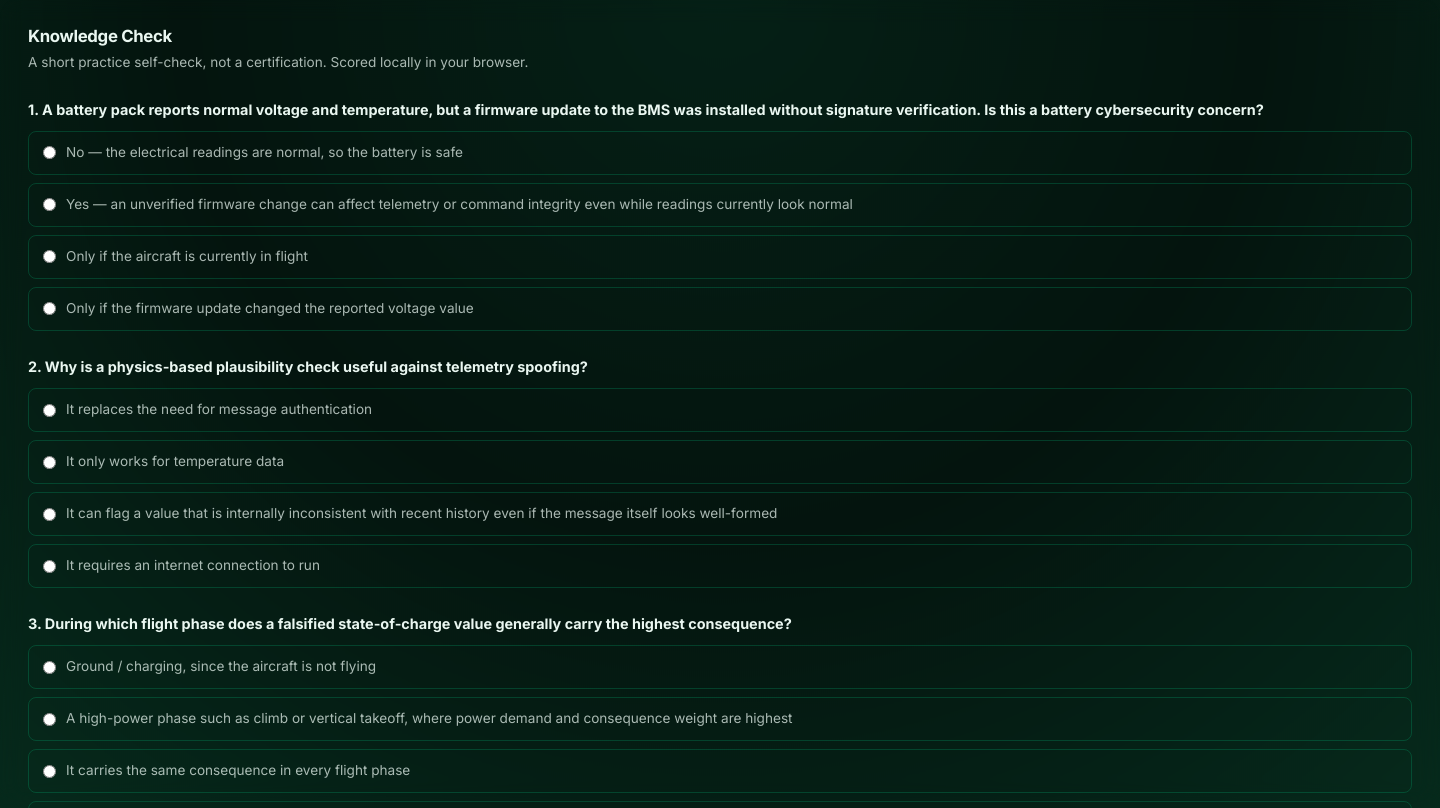
Test: Quiz › disables submission until every question is answered
This screenshot has width=1440, height=808.
Step 1. Click the radio button named "Yes — an unverified firmware change can affect telemetry or command integrity even while readings currently look normal" → point(50, 205), box [43, 198, 56, 212]
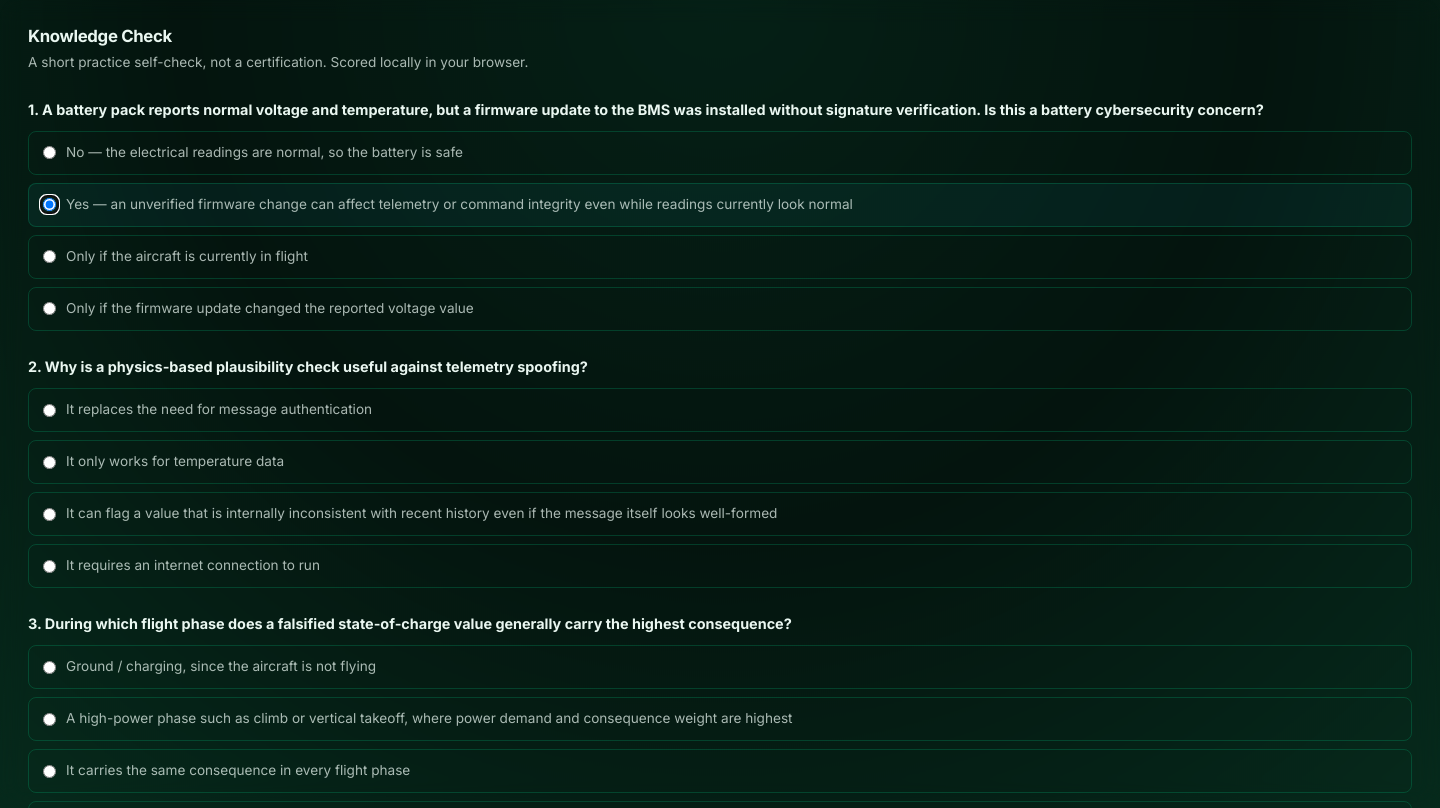
Step 2. Click the radio button named "It can flag a value that is internally inconsistent with recent history even if the message itself looks well-formed" → point(50, 514), box [43, 508, 56, 520]
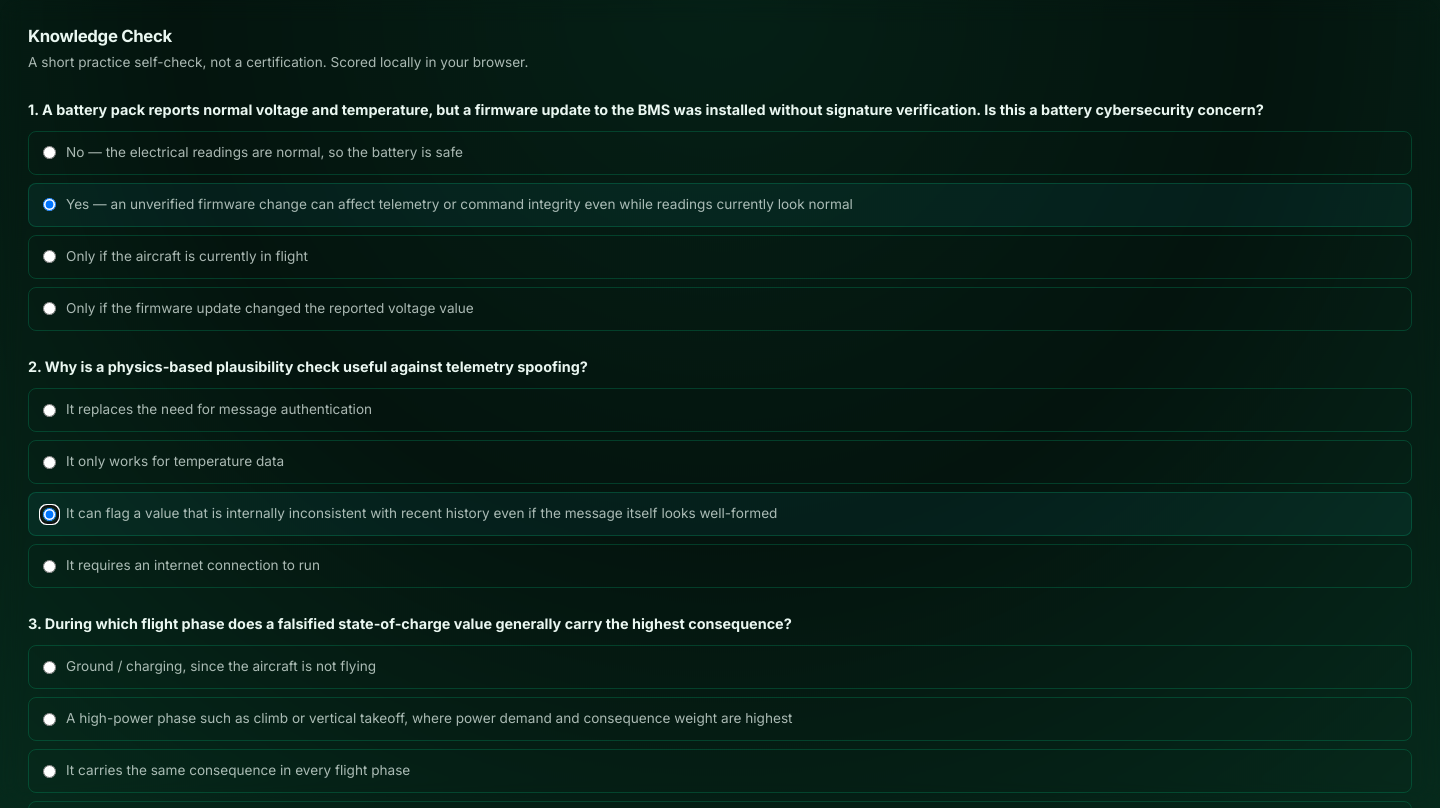
Step 3. Click the radio button named "A high-power phase such as climb or vertical takeoff, where power demand and consequence weight are highest" → point(50, 719), box [43, 712, 56, 726]
(page scrolled)
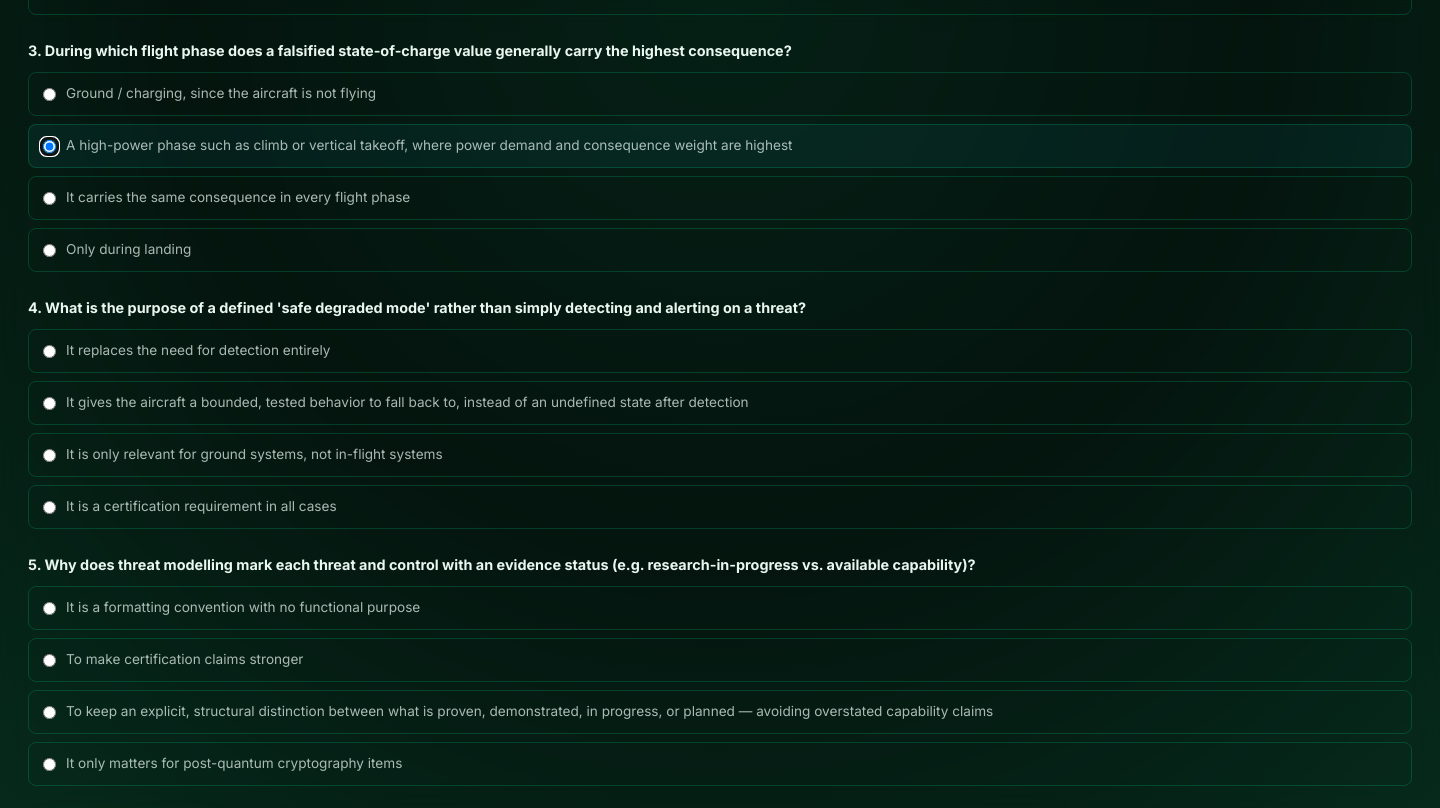
Step 4. Click the radio button named "It gives the aircraft a bounded, tested behavior to fall back to, instead of an undefined state after detection" → point(50, 403), box [43, 397, 56, 410]
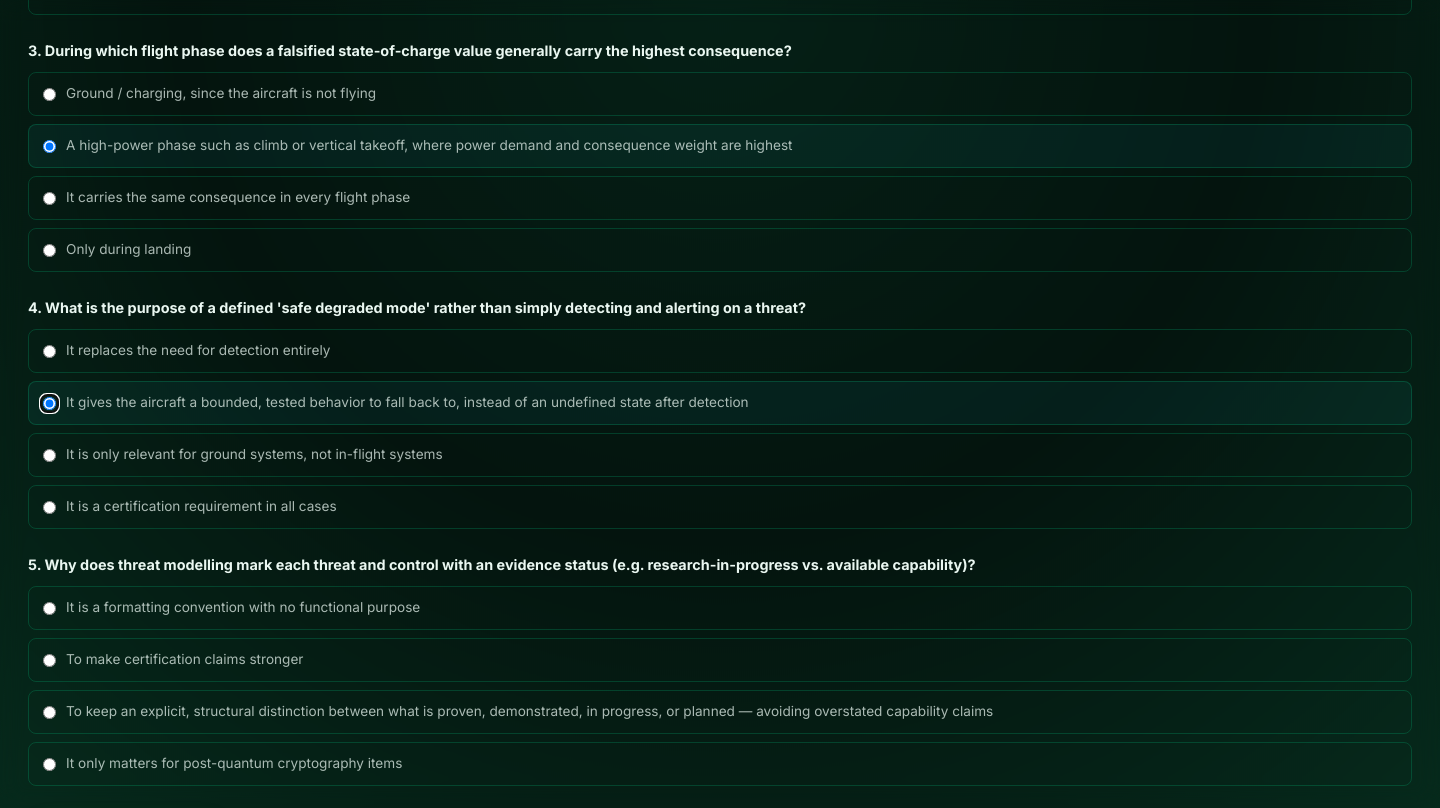
Step 5. Click the radio button named "To keep an explicit, structural distinction between what is proven, demonstrated, in progress, or planned — avoiding ove" → point(50, 712), box [43, 706, 56, 719]
(page scrolled)
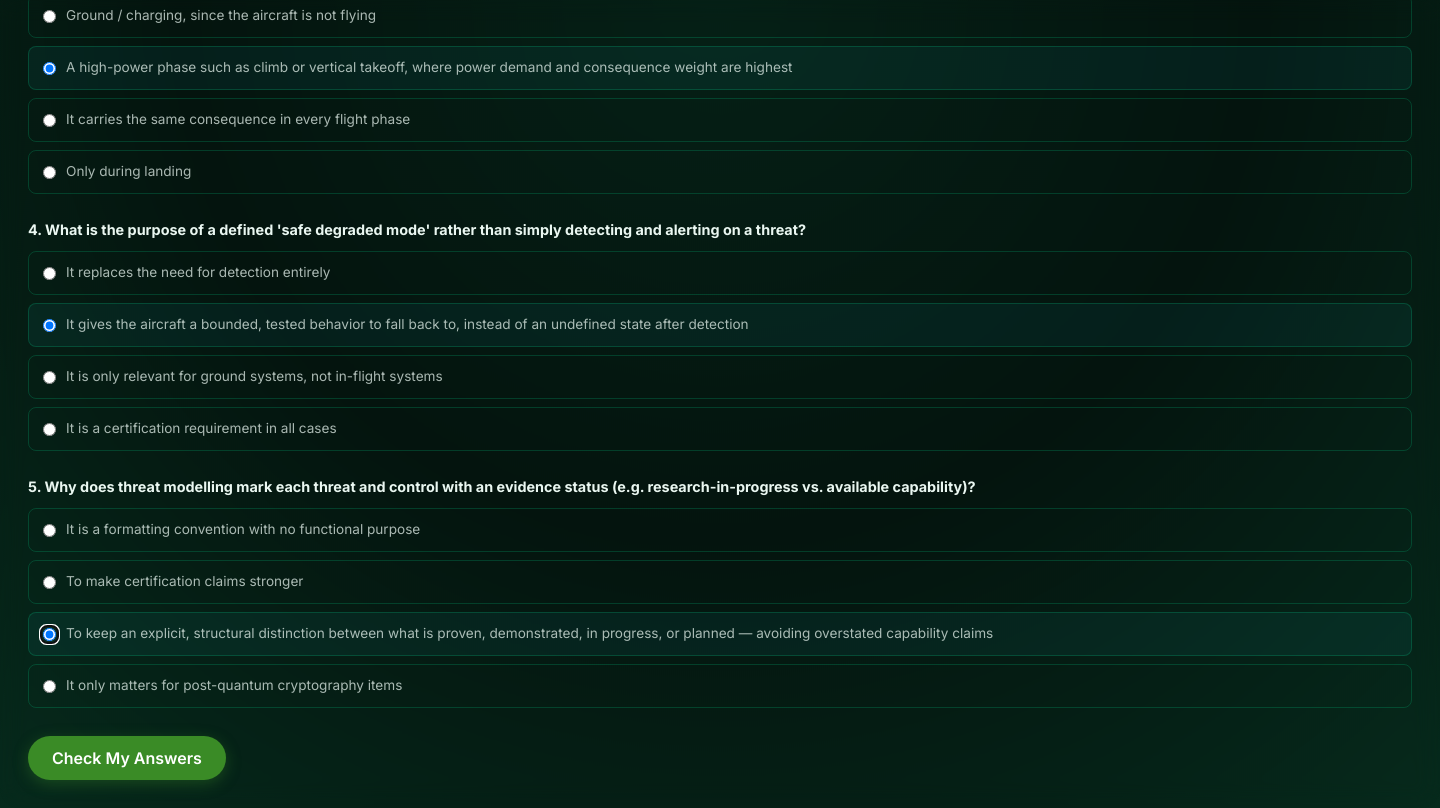
expect the button "Check My Answers" is enabled: met, box [28, 736, 226, 780]
